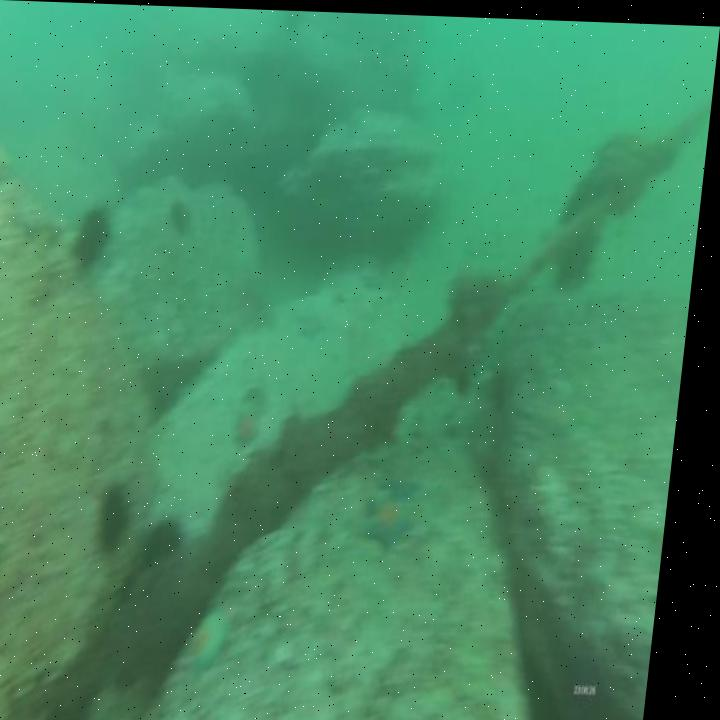echinus: (78, 202, 121, 267), (110, 483, 144, 555), (154, 509, 197, 565), (175, 191, 201, 239)
starfish: (197, 603, 252, 675), (376, 490, 424, 549), (390, 464, 435, 504), (0, 532, 16, 642), (242, 403, 272, 448), (303, 307, 333, 337), (368, 265, 396, 291)
